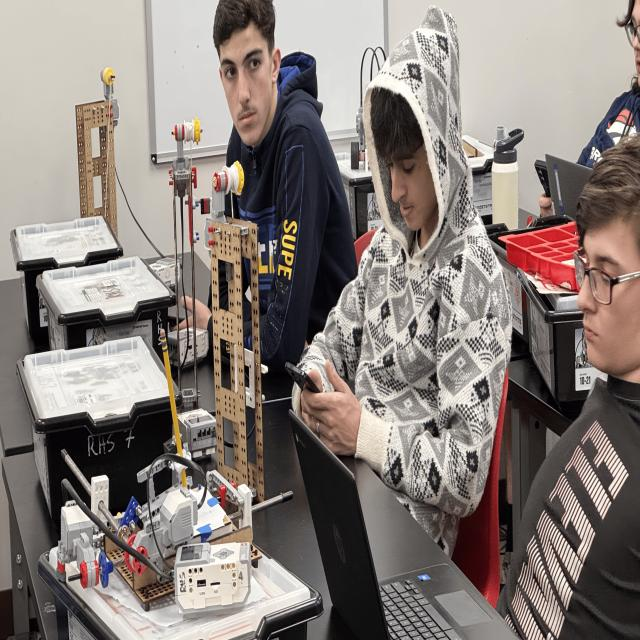pen: (284, 361, 330, 415), (535, 159, 563, 215), (164, 313, 194, 328)
